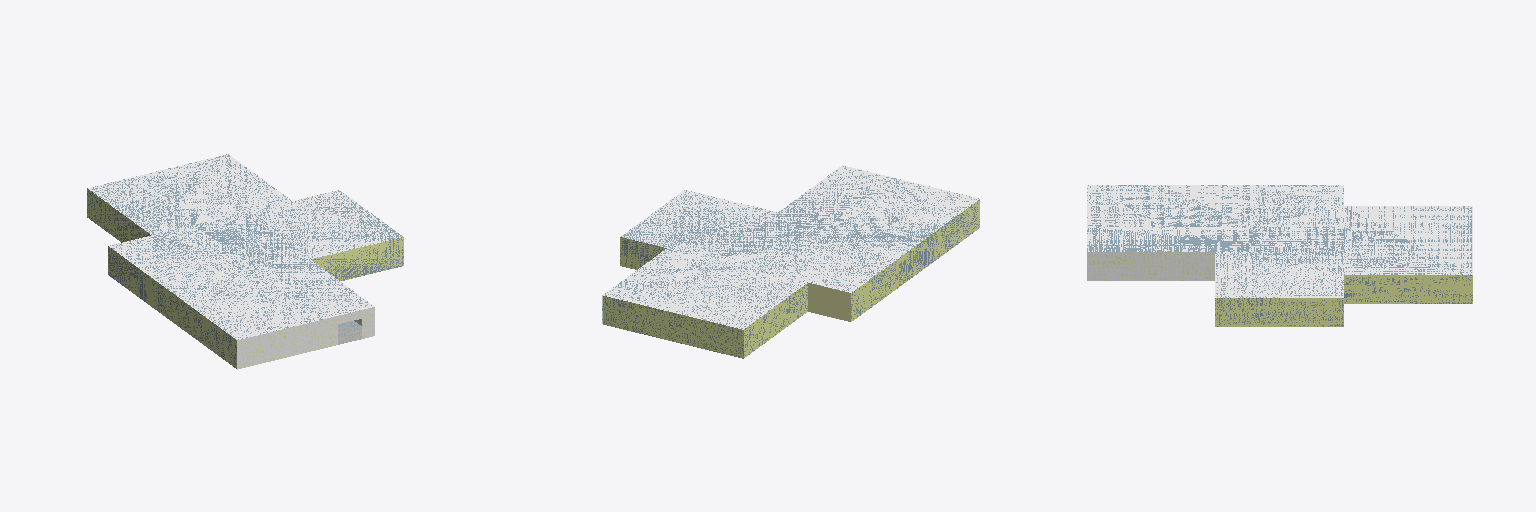
File: museoLight2.obj
The picture shows the model from 3 angles: view 1: azimuth 30°, elevation 25°; view 2: azimuth 150°, elevation 25°; view 3: azimuth 270°, elevation 25°; orthographic projection.
Parts seen in each view (by area): view 1: Mesh1 Model; view 2: Mesh1 Model; view 3: Mesh1 Model.
Part boxes in pixels (left/top/right/bottom): Mesh1 Model: left=87, top=154, right=403, bottom=369; Mesh1 Model: left=602, top=165, right=979, bottom=358; Mesh1 Model: left=1087, top=185, right=1472, bottom=326.
Bounding box in the file's own units: 31.46 × 3.81 × 45.66.